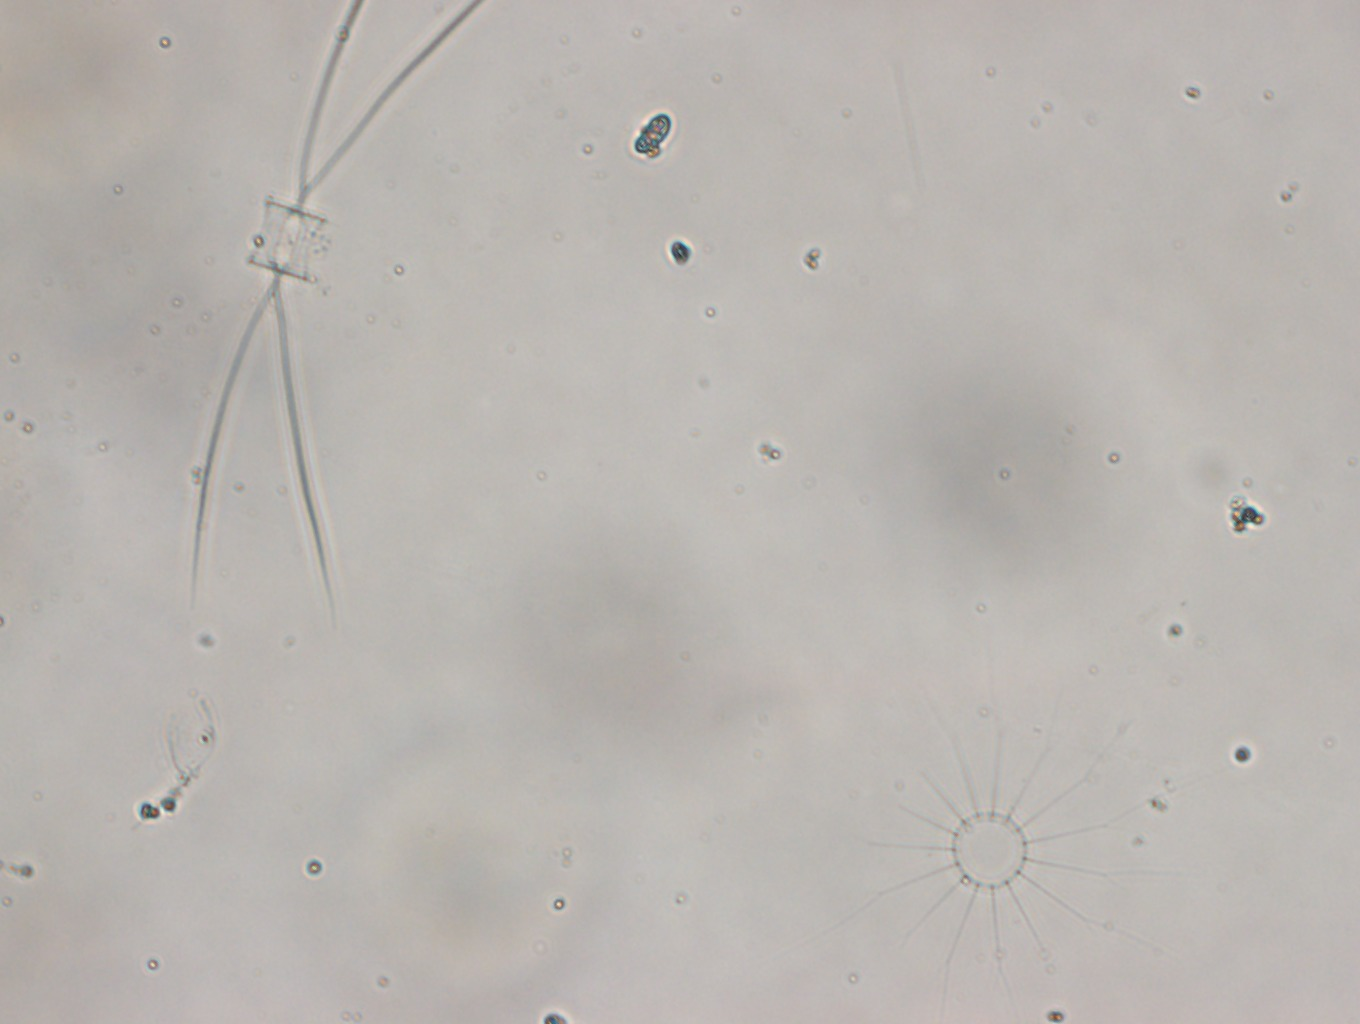bacteriastrum: (858, 688, 1174, 986)
chaetoceros: (189, 1, 481, 606)
